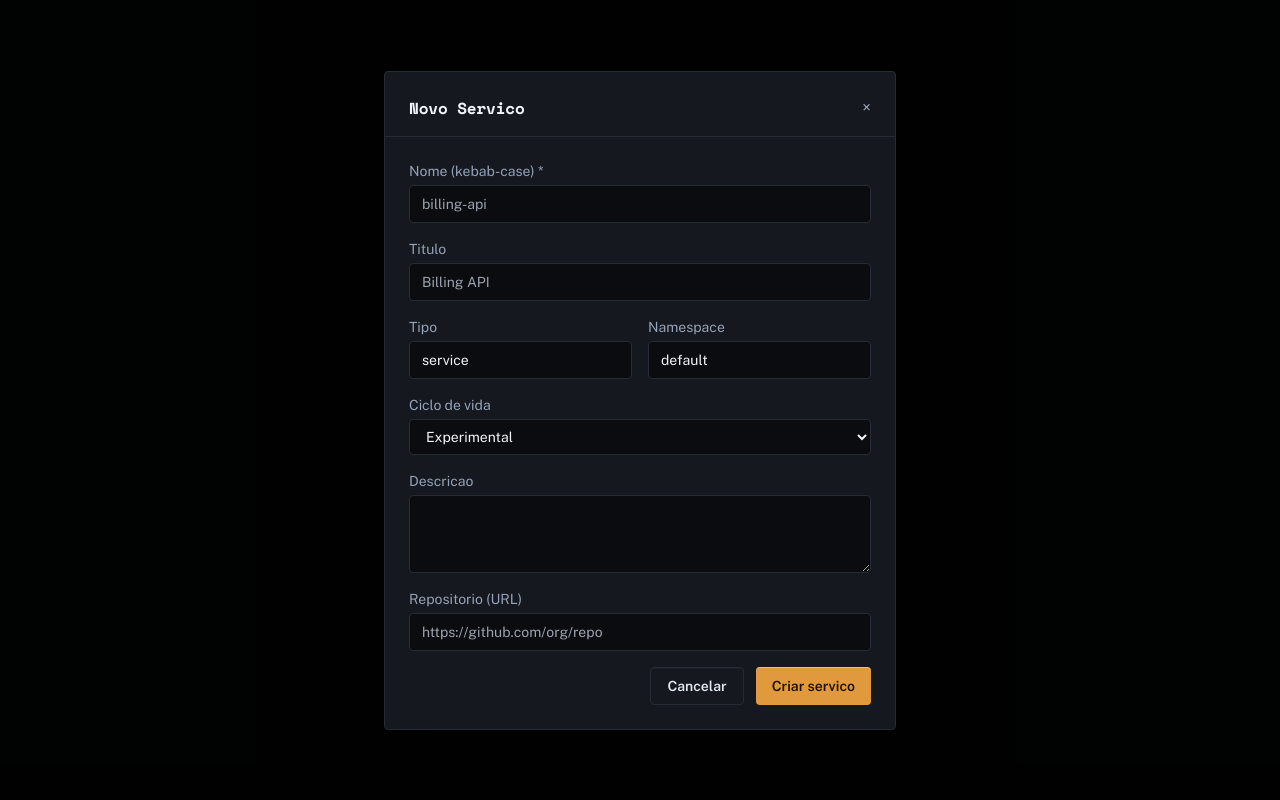
CreateServiceDialog › valida o formato do nome antes de enviar
Type "Nome Invalido" into the field with placeholder "billing-api" at (640, 204), box x1=409 y1=184 x2=871 y2=222
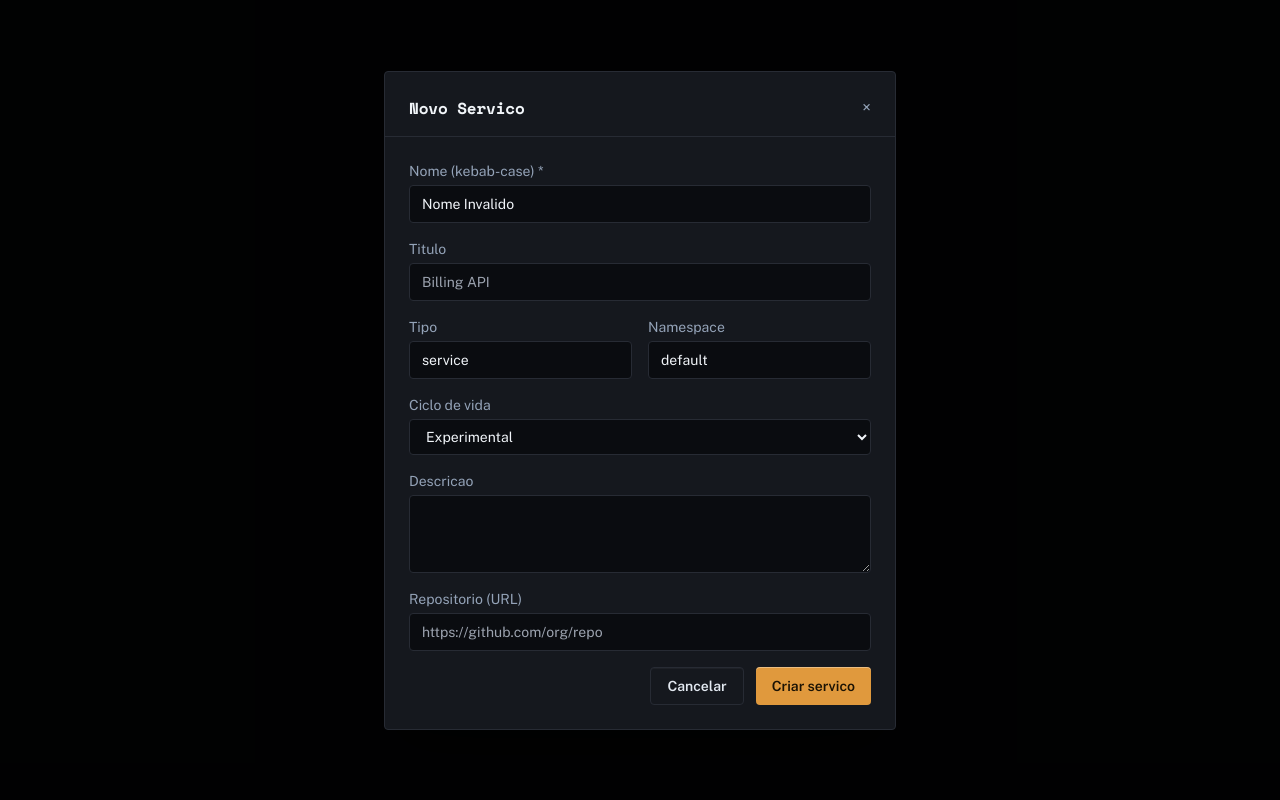
Click the button "Criar servico" at (813, 686), box x1=756 y1=666 x2=871 y2=704
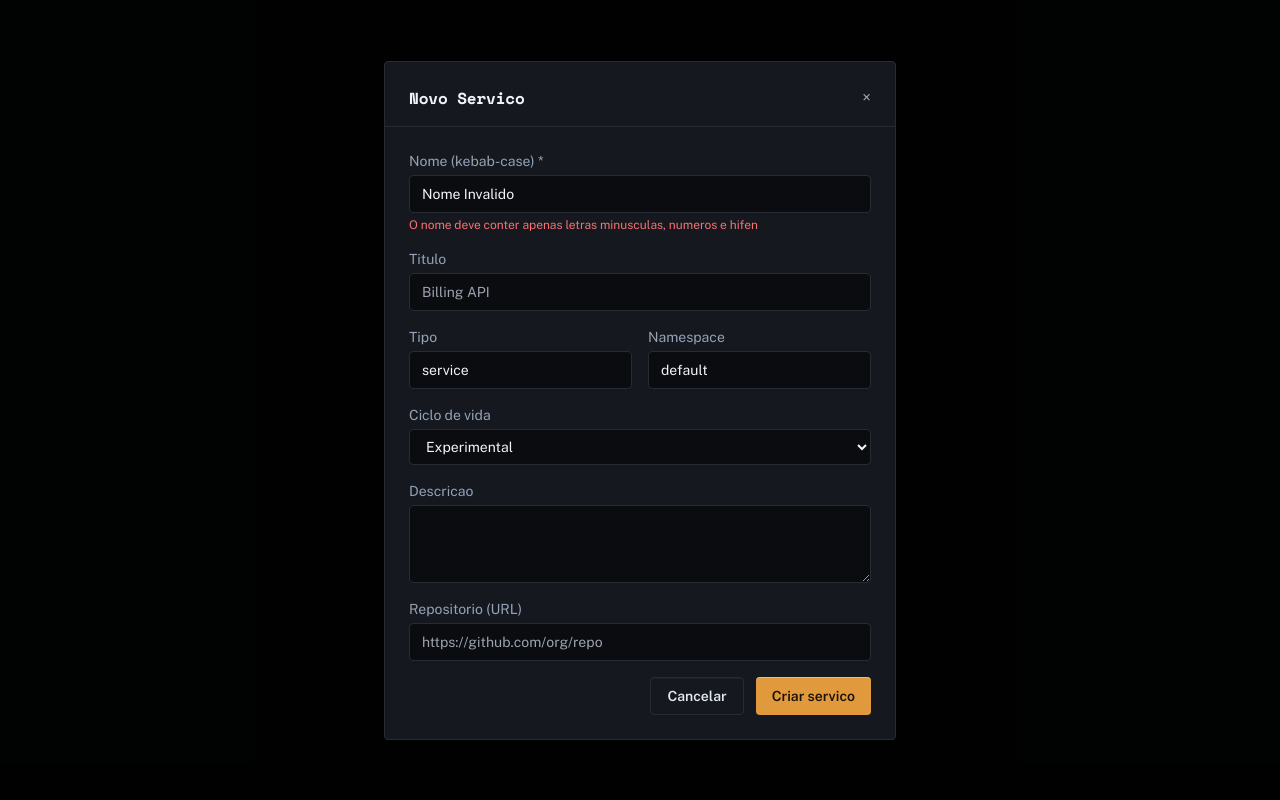
Now the text "O nome deve conter apenas letras minusculas, numeros e hifen" is shown, box x1=409 y1=218 x2=758 y2=232
